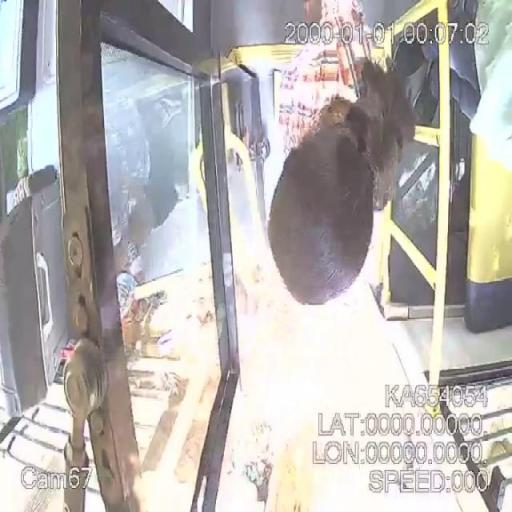persona: (256, 0, 422, 319)
